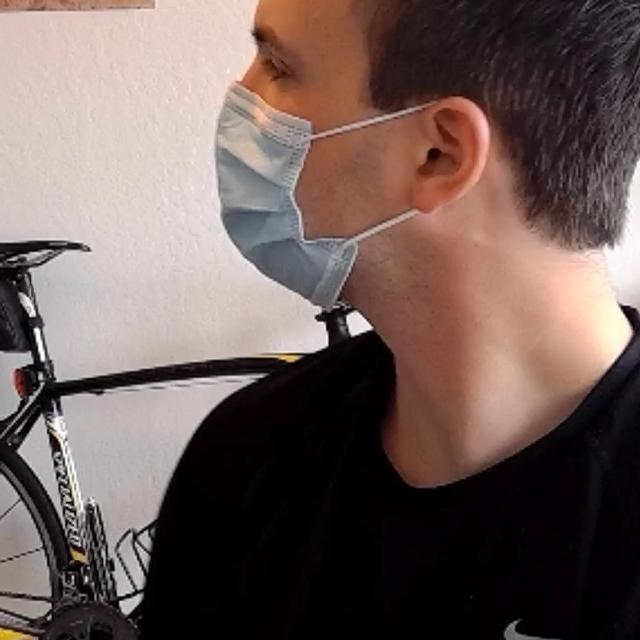Mask: (210, 79, 430, 323)
NO-Safety Vest: (214, 344, 640, 640)
Person: (58, 0, 640, 640)
